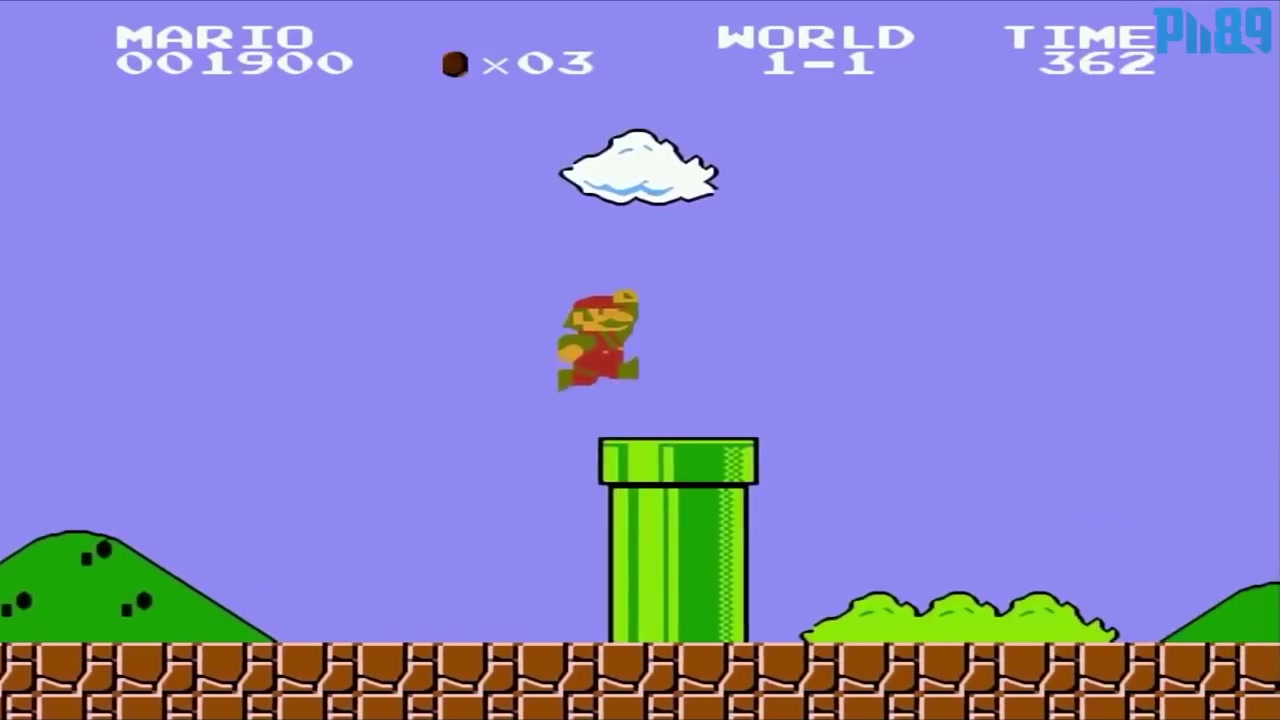mario: (554, 285, 649, 396)
